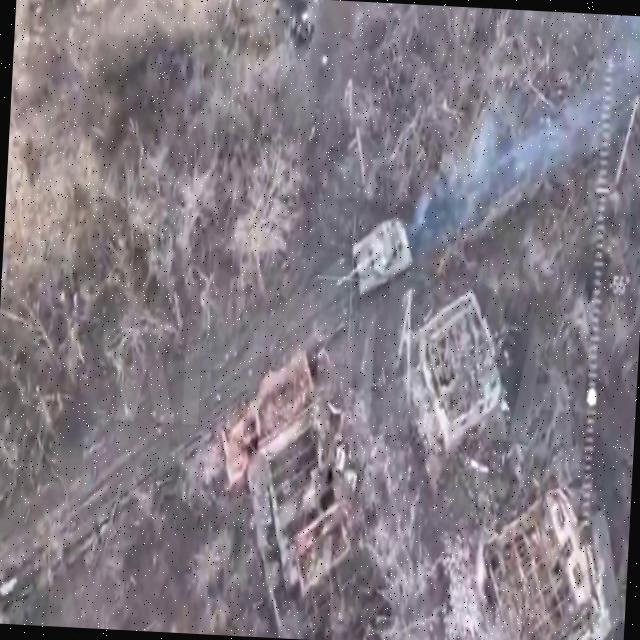MBT: (337, 215, 417, 302)
